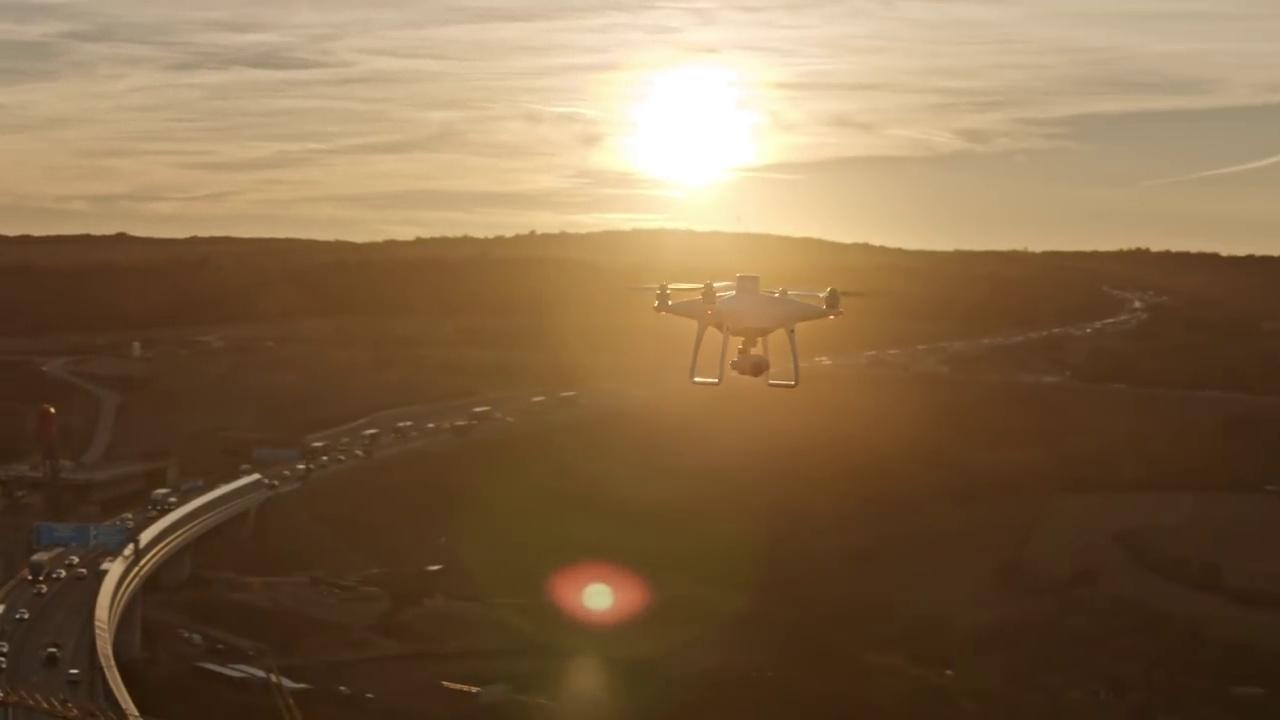drone: (625, 271, 879, 391)
